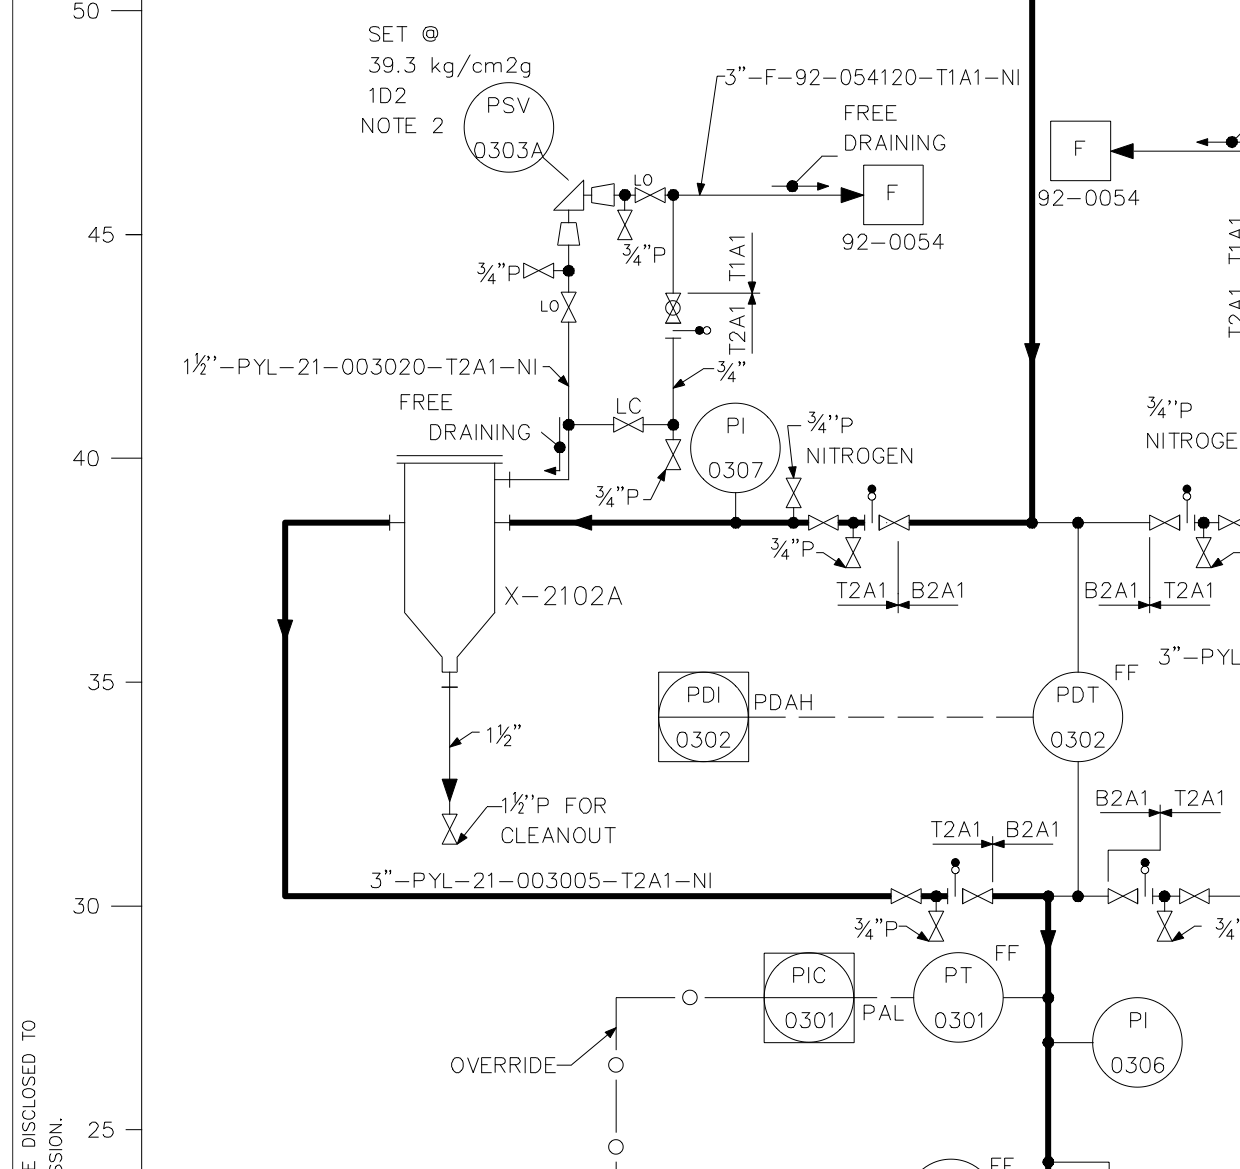Intrument Tag: (456, 77, 561, 179), (1024, 668, 1129, 770), (760, 948, 865, 1050), (652, 664, 757, 766), (1087, 991, 1192, 1093), (908, 947, 1013, 1049), (683, 396, 787, 497)
Line Number: (181, 349, 541, 381), (368, 865, 718, 890), (724, 62, 1024, 90)
PSV: (548, 176, 589, 214)
Reducer: (552, 219, 587, 249), (587, 180, 619, 210)
Spetacle Blind: (862, 478, 885, 534), (1176, 478, 1199, 534), (946, 855, 967, 906), (1135, 855, 1155, 906)
